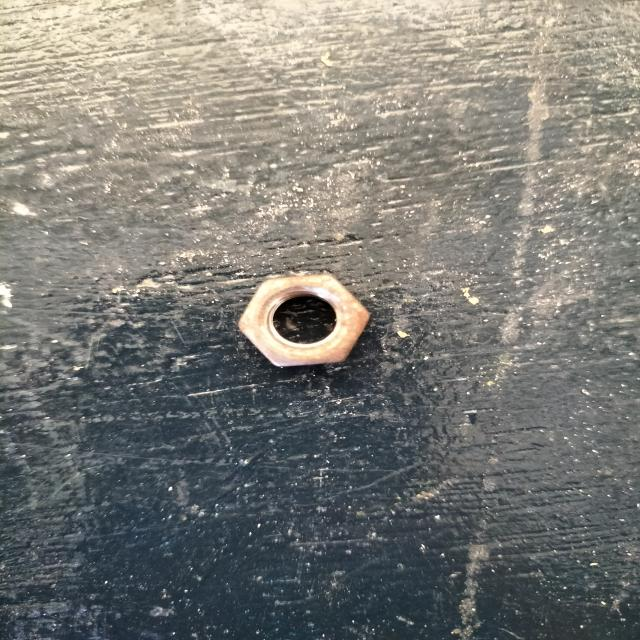nuts: (238, 275, 369, 367)
